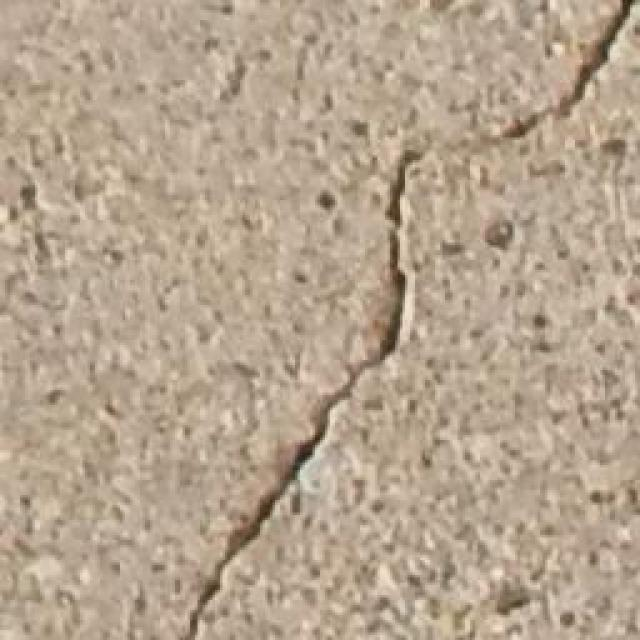concrete-crack: (188, 0, 634, 640)
